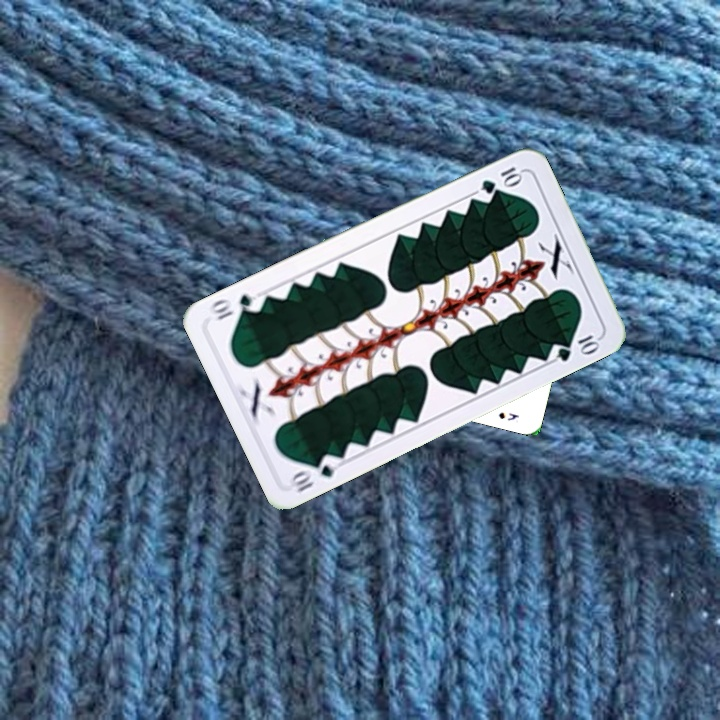G10: (287, 450, 340, 495), (477, 162, 526, 197)
